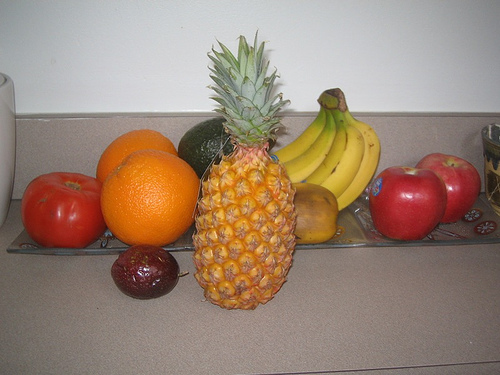pineapple: (194, 33, 297, 309)
